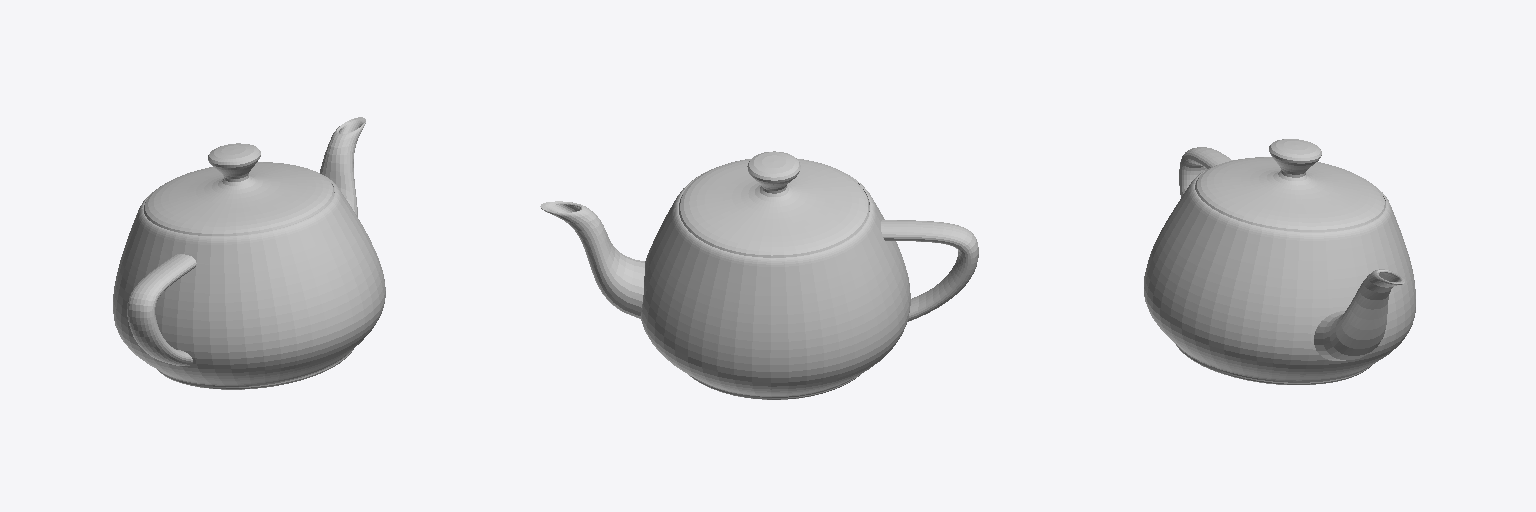
Rendered from teapot2.obj.
3 renders of one model, left to right at view 1: azimuth 30°, elevation 25°; view 2: azimuth 150°, elevation 25°; view 3: azimuth 270°, elevation 25°, orthographic.
Visible parts, largest first — view 1: teapot; view 2: teapot; view 3: teapot.
Boxes of the visible parts, <box> form: teapot: <box>113,117,385,389</box>; teapot: <box>540,151,978,399</box>; teapot: <box>1144,139,1415,384</box>.
Size of the model in its own units: 136 by 81.21 by 95.81.